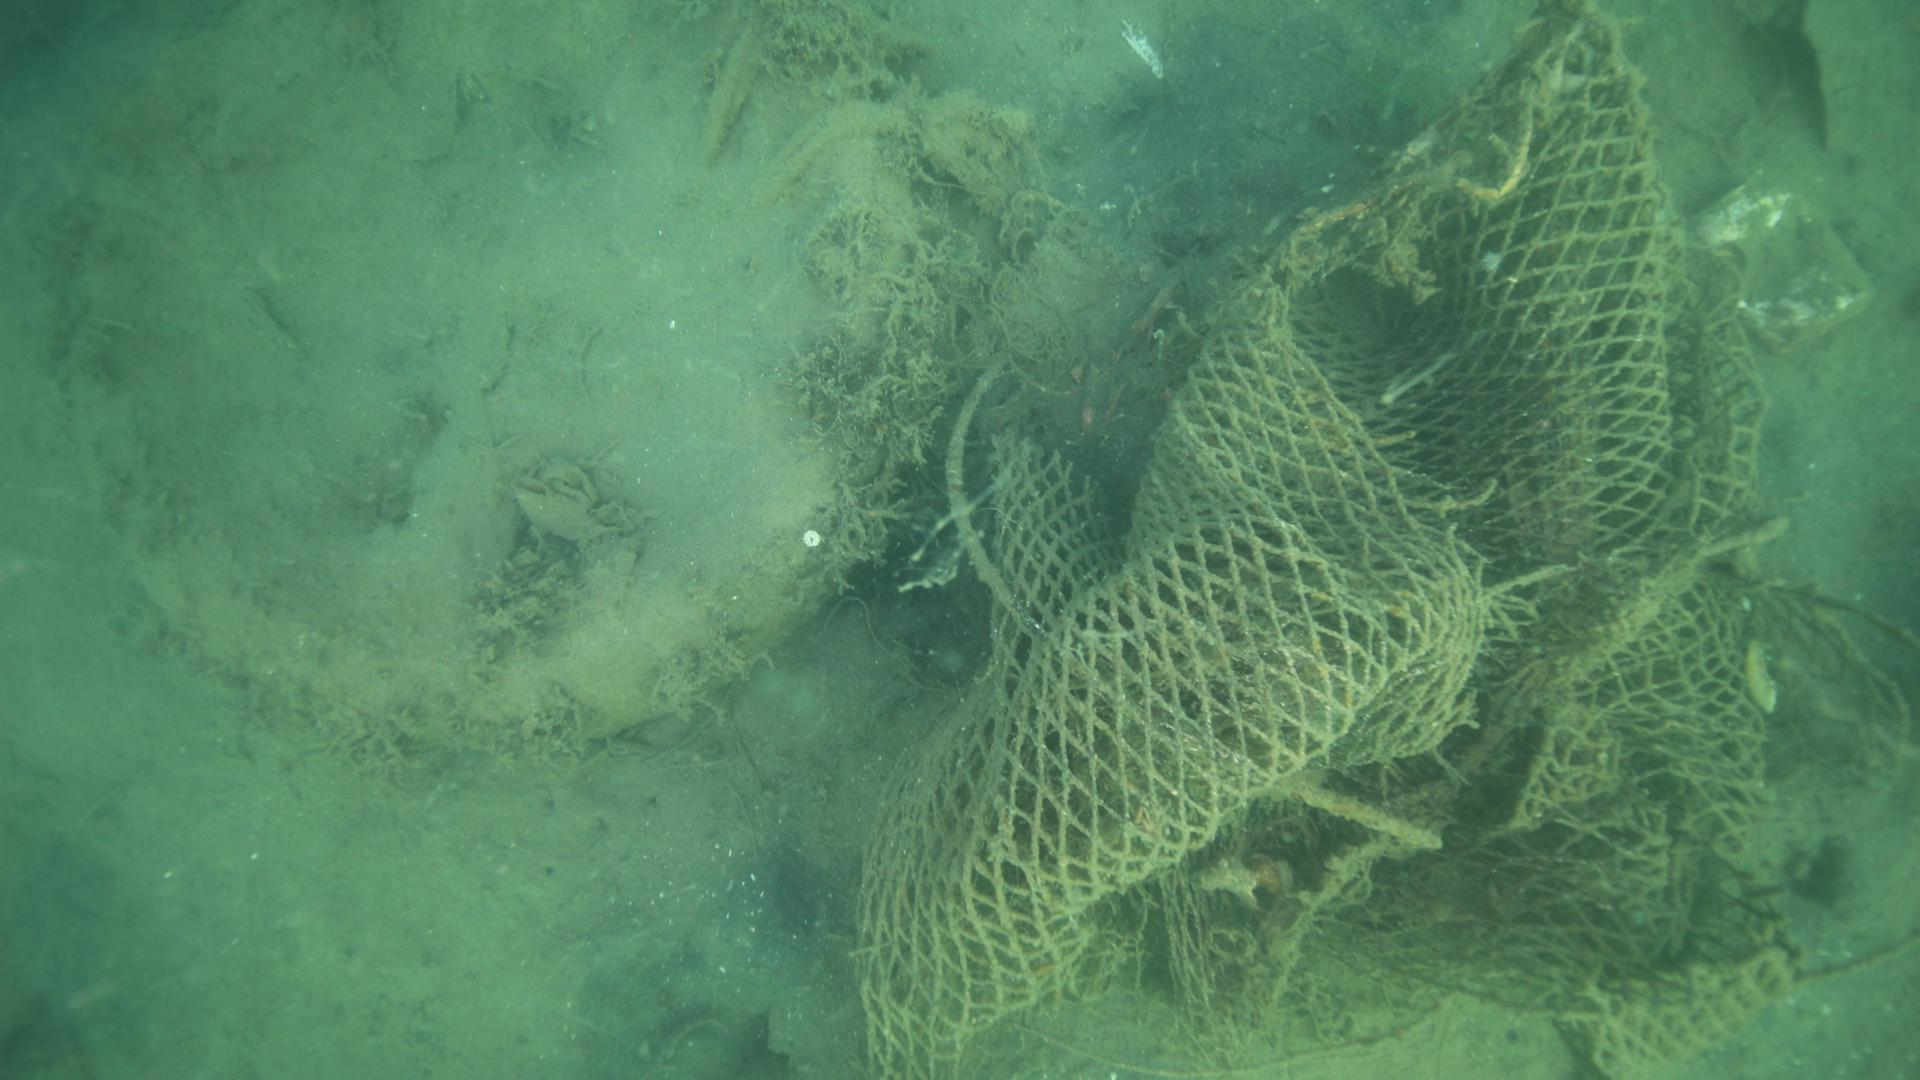fish net: (852, 0, 1807, 1080)
